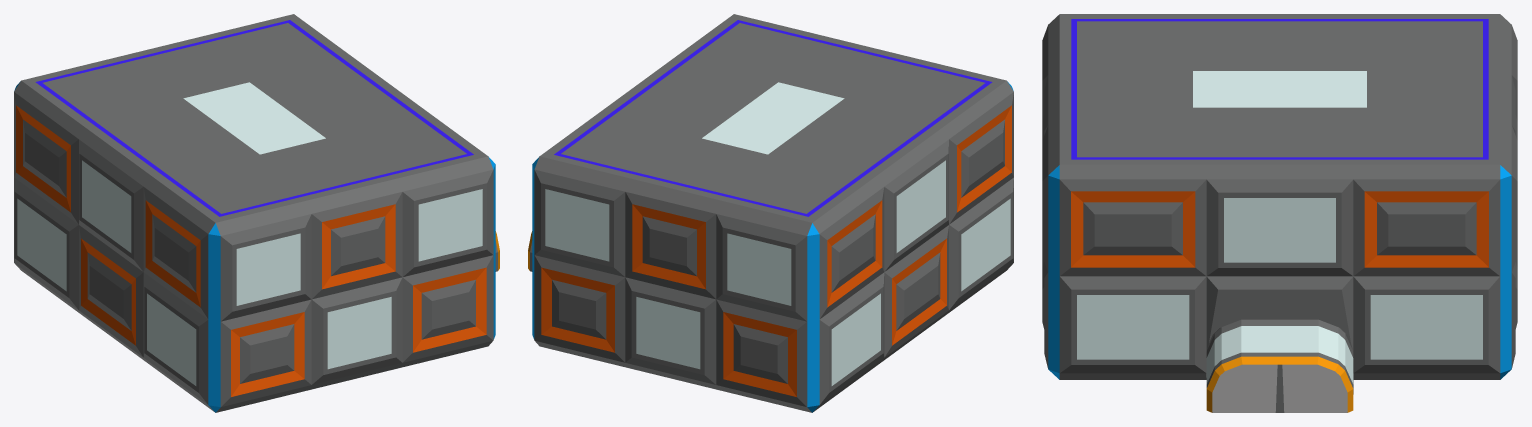
Rendered from Residential_B_Placement.fbx.
3 views of the same model, side by side, from view 1: azimuth 30°, elevation 25°; view 2: azimuth 150°, elevation 25°; view 3: azimuth 270°, elevation 25° (orthographic). The views are drawn at different scales.
Visible parts, largest first — view 1: Cube.001; view 2: Cube.001; view 3: Cube.001.
Boxes of the visible parts, x1,y1,x2,y2 form: Cube.001: (14, 14, 499, 412); Cube.001: (528, 14, 1013, 412); Cube.001: (1042, 14, 1517, 412).
Bounding box in the file's own units: 2 × 1 × 2.
